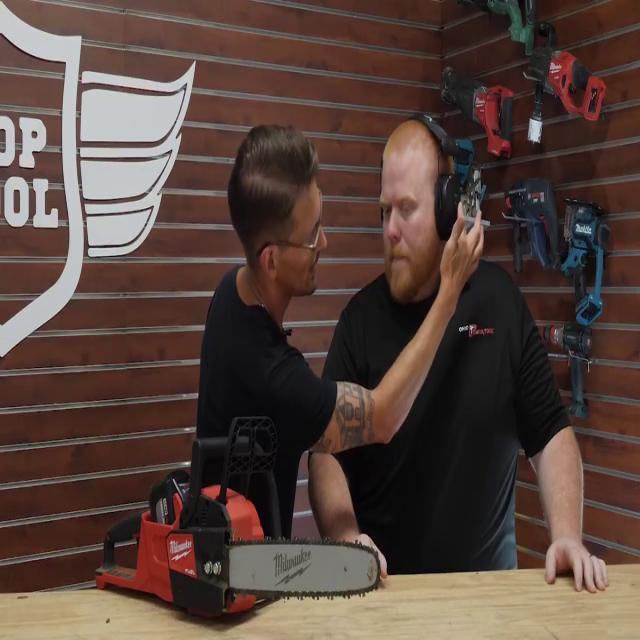earmuff: (435, 181, 465, 232)
glasses: (308, 214, 331, 247)
